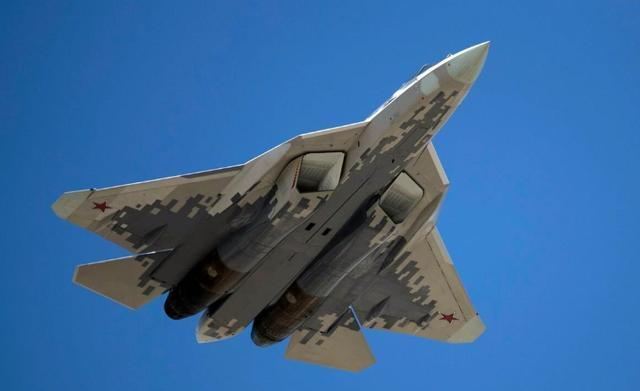airplane: (47, 40, 497, 375)
